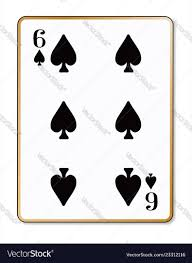six of spades: (18, 18, 172, 220)
